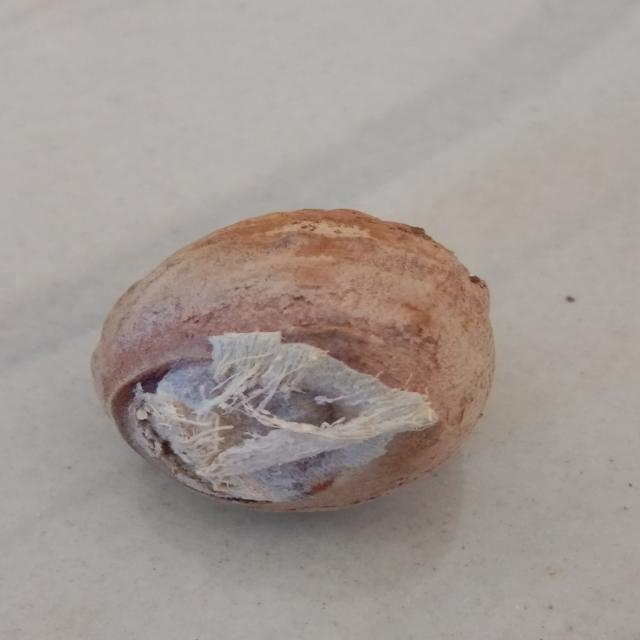karigot: (75, 195, 537, 524)
